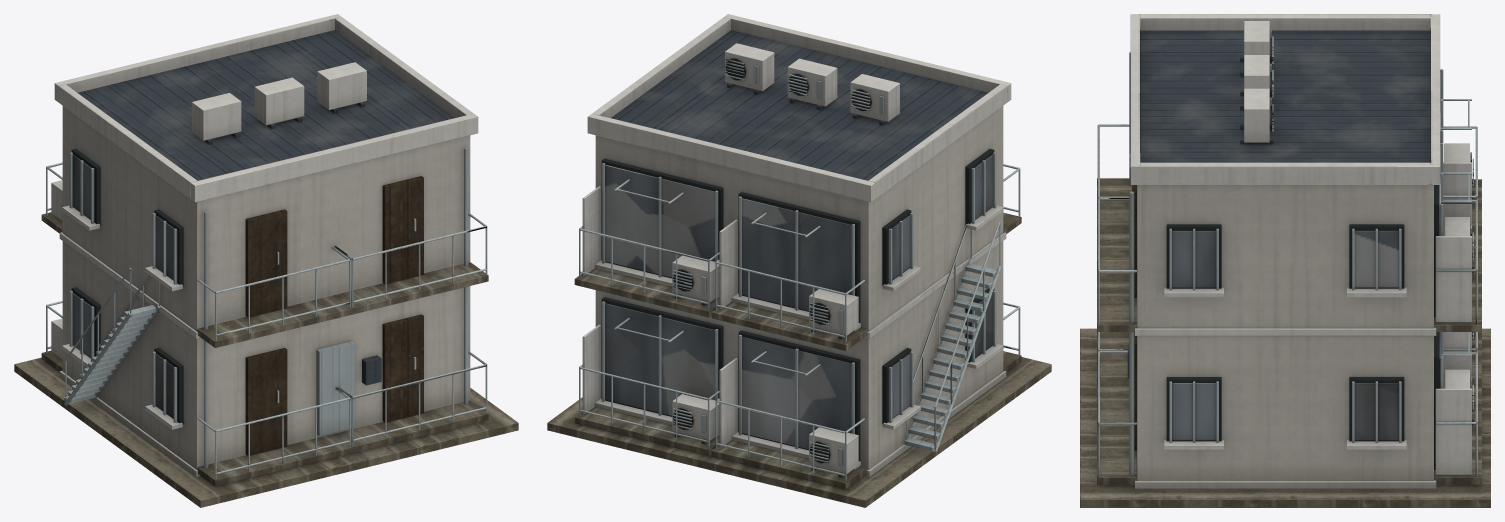
The model's file is residential_015.obj.
3 renders of one model, left to right at view 1: azimuth 30°, elevation 25°; view 2: azimuth 150°, elevation 25°; view 3: azimuth 270°, elevation 25°, orthographic. The views are drawn at different scales.
Parts seen in each view (by area): view 1: residential_015; view 2: residential_015; view 3: residential_015.
Boxes of the visible parts, left/top/right/bottom form: residential_015: left=14, top=14, right=518, bottom=507; residential_015: left=547, top=14, right=1051, bottom=507; residential_015: left=1080, top=14, right=1490, bottom=507.
Bounding box in the file's own units: 7.34 × 6.91 × 7.2.
Materials: 1 (1 with a texture image).
